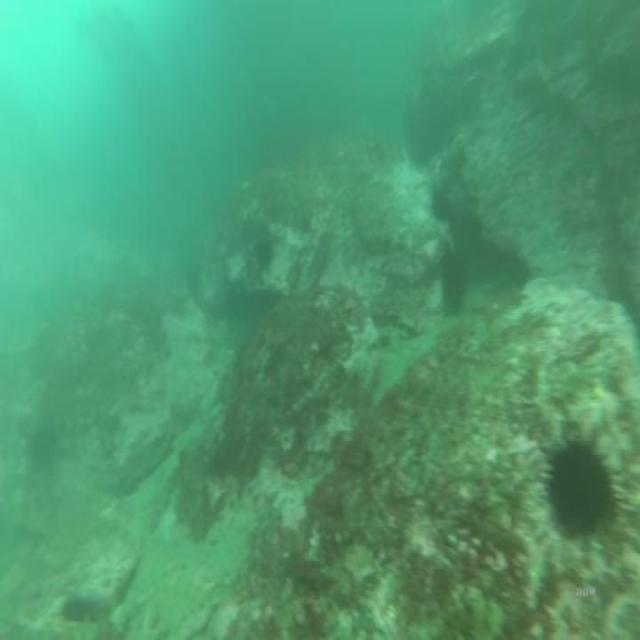echinus: (543, 435, 621, 542), (439, 245, 469, 322), (431, 179, 453, 226)
